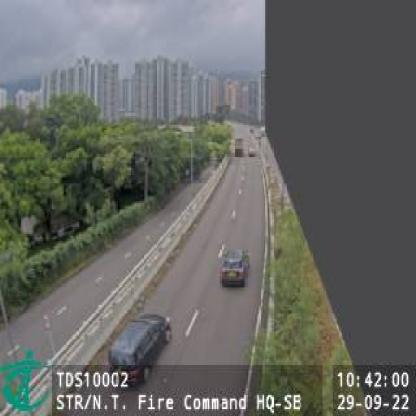Car: (108, 312, 173, 380), (216, 248, 249, 291)
